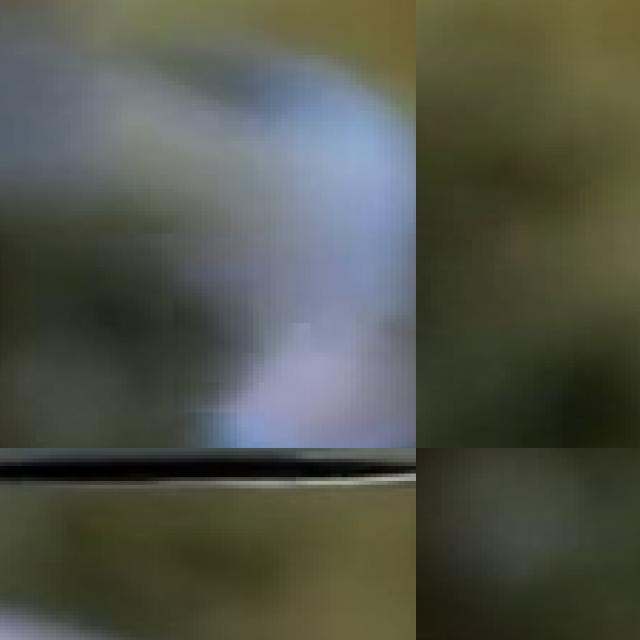fish: (0, 0, 416, 448), (0, 585, 416, 640)
